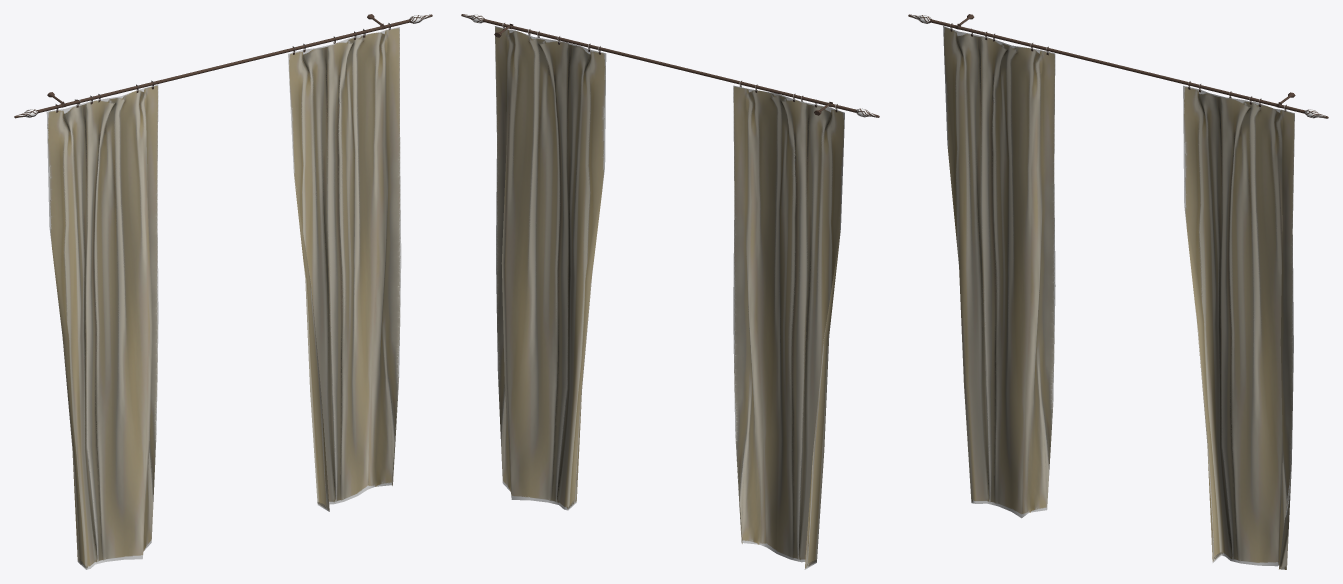
The model's file is Curtain02.FBX.
The picture shows the model from 3 angles, left to right: view 1: azimuth 30°, elevation 25°; view 2: azimuth 150°, elevation 25°; view 3: azimuth 330°, elevation 25°; orthographic projection.
Parts seen in each view (by area): view 1: Curtain02; view 2: Curtain02; view 3: Curtain02.
Part boxes in pixels (x1,y1,x2,y2): Curtain02: (14, 14, 432, 569); Curtain02: (461, 14, 879, 569); Curtain02: (908, 14, 1328, 569).
Size of the model in its own units: 357 by 30.85 by 383.
